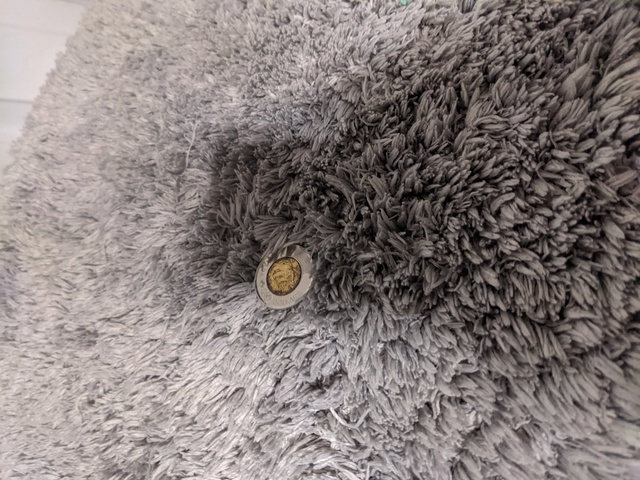twonie: (249, 244, 325, 307)
